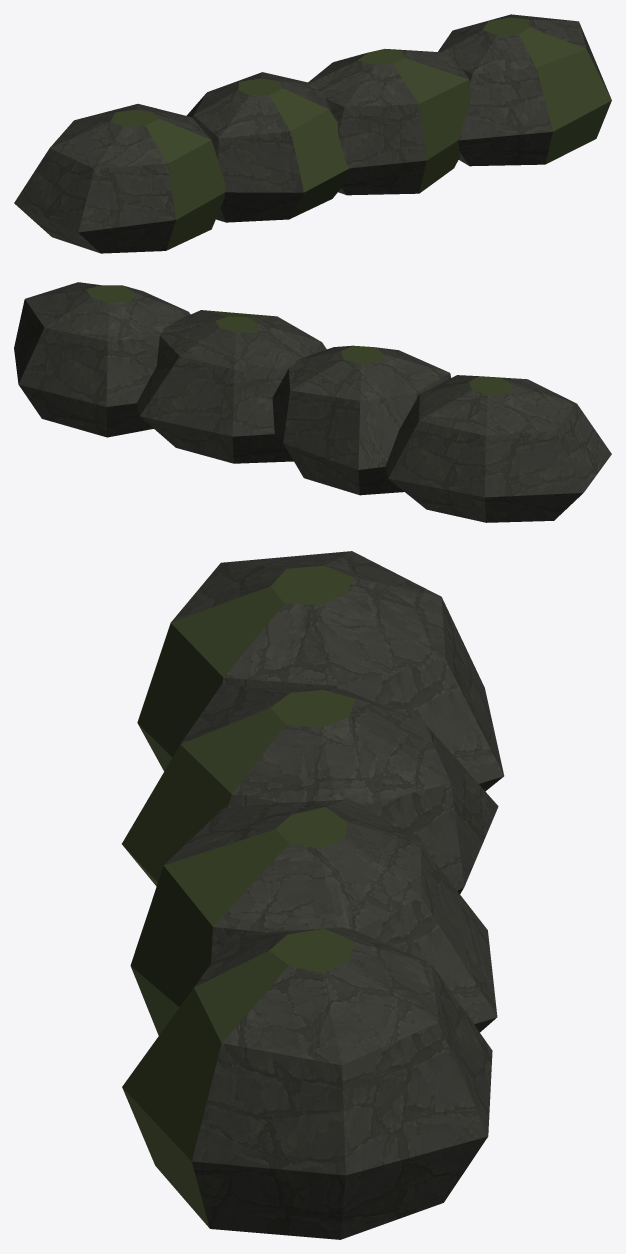
3 views of the same model, one above another, from view 1: azimuth 30°, elevation 25°; view 2: azimuth 150°, elevation 25°; view 3: azimuth 270°, elevation 25° (orthographic). The views are drawn at different scales.
Parts seen in each view (by area): view 1: Weathered faceted boulder; view 2: Weathered faceted boulder; view 3: Weathered faceted boulder.
Boxes of the visible parts, <box> form: Weathered faceted boulder: <box>14,14,611,253</box>; Weathered faceted boulder: <box>14,282,611,522</box>; Weathered faceted boulder: <box>122,551,504,1239</box>.
Bounding box in the file's own units: 5.48 × 1 × 1.6.
Materials: 2 (1 with a texture image).
